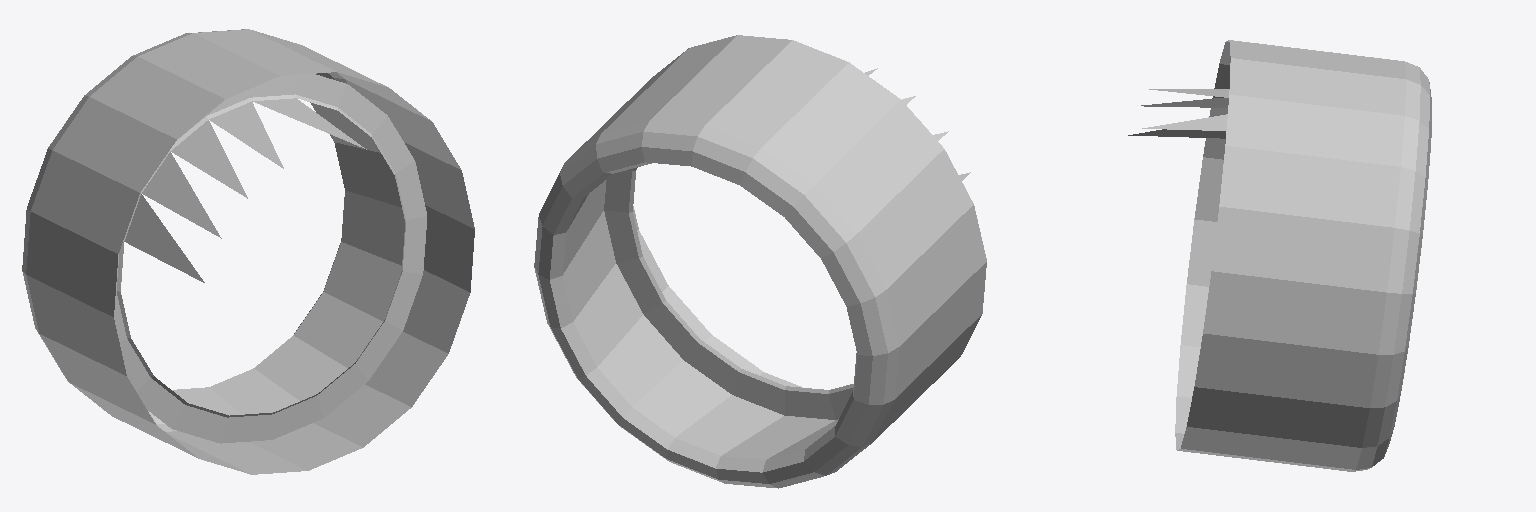
The model's file is shard20.obj.
3 renders of one model, left to right at view 1: azimuth 30°, elevation 25°; view 2: azimuth 150°, elevation 25°; view 3: azimuth 270°, elevation 25°, orthographic.
Visible parts, largest first — view 1: defaultMaterial.018; view 2: defaultMaterial.018; view 3: defaultMaterial.018.
Boxes of the visible parts, box(x1,y1,x2,y2) form: defaultMaterial.018: box(22, 29, 474, 474); defaultMaterial.018: box(534, 35, 986, 488); defaultMaterial.018: box(1128, 40, 1431, 471).
Size of the model in its own units: 5.53 by 5.79 by 4.04.